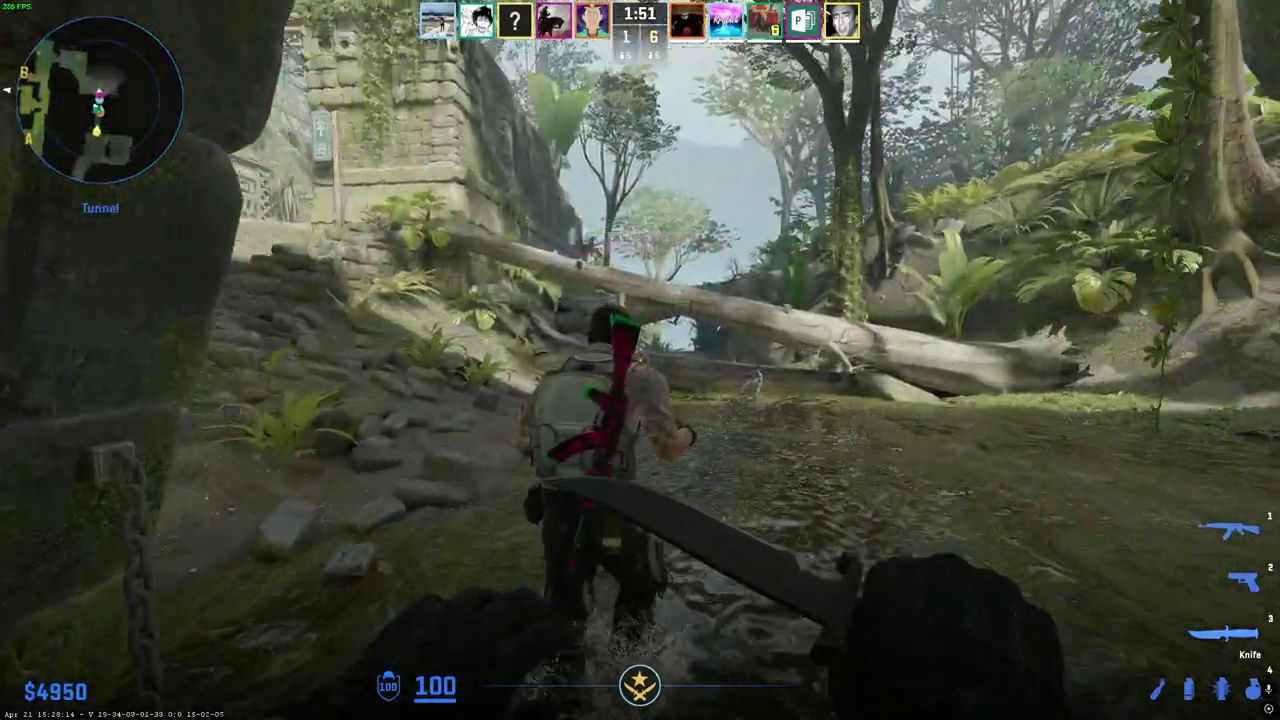Terrorist: (517, 302, 688, 689)
